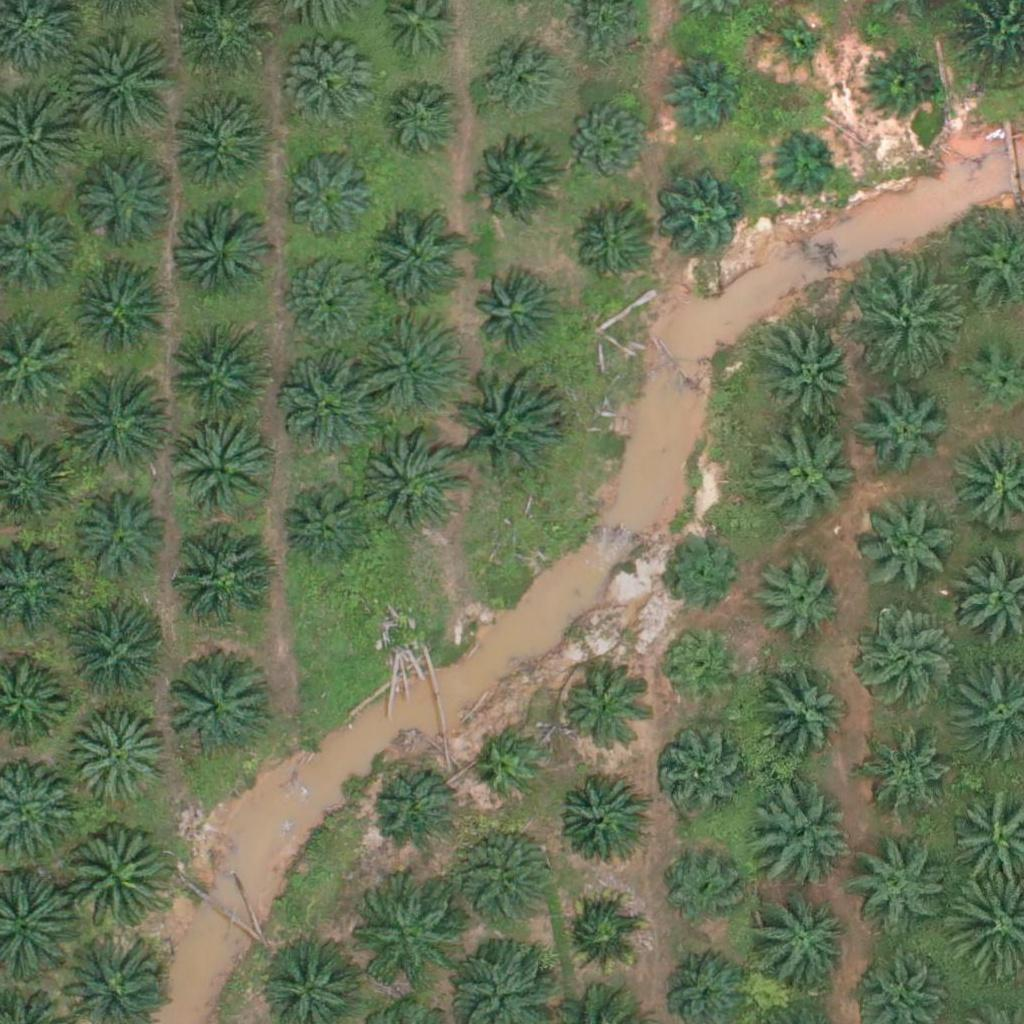Kelapa_Sawit: (850, 266, 963, 380), (67, 26, 180, 139), (448, 371, 561, 484), (59, 823, 171, 936), (351, 308, 463, 421), (63, 366, 175, 479), (76, 150, 176, 251), (173, 100, 273, 201), (174, 208, 274, 309), (847, 842, 947, 943), (754, 888, 854, 989), (348, 888, 448, 989), (163, 660, 263, 761), (70, 709, 170, 810), (855, 608, 955, 709), (747, 549, 847, 650), (357, 432, 457, 533), (282, 349, 382, 450), (166, 418, 266, 519), (166, 330, 266, 431), (70, 262, 170, 363), (282, 147, 382, 247), (368, 211, 468, 311), (753, 669, 853, 769), (756, 785, 856, 885), (455, 823, 555, 923), (68, 611, 168, 711), (859, 493, 959, 593), (763, 323, 863, 423), (754, 429, 854, 529), (172, 528, 272, 628), (68, 487, 168, 587), (373, 78, 461, 167), (287, 254, 375, 343), (663, 177, 751, 265), (869, 739, 957, 827), (657, 626, 745, 714), (661, 844, 749, 932), (370, 764, 458, 852), (568, 204, 655, 292), (563, 97, 650, 185), (473, 36, 560, 124), (469, 136, 556, 224), (289, 48, 376, 136), (661, 44, 748, 132), (659, 727, 746, 815), (561, 668, 648, 756), (557, 773, 644, 861), (557, 891, 644, 979), (860, 390, 947, 478), (659, 527, 746, 615), (474, 273, 561, 361), (283, 480, 370, 568), (473, 730, 548, 806), (861, 45, 936, 121), (767, 128, 842, 203), (768, 17, 831, 80)
